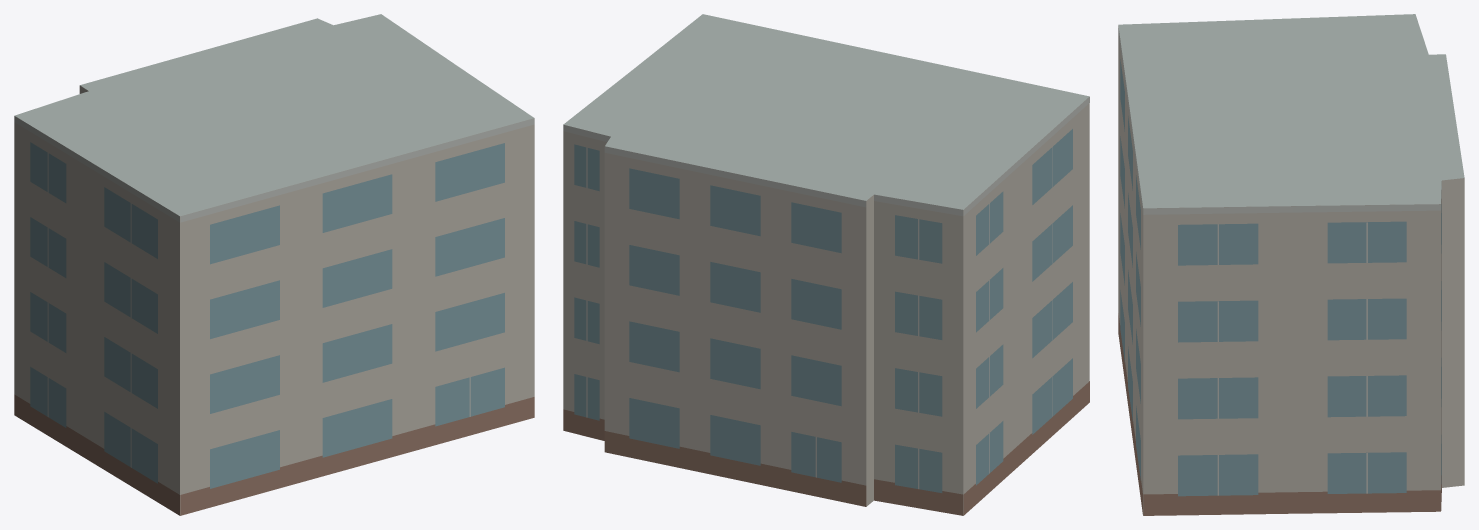
File: survey-upis-32965989.glb
3 views of the same model, side by side, from view 1: azimuth 30°, elevation 25°; view 2: azimuth 150°, elevation 25°; view 3: azimuth 270°, elevation 25° (orthographic). The views are drawn at different scales.
Visible parts, largest first — view 1: survey-upis-32965989.tmp; view 2: survey-upis-32965989.tmp; view 3: survey-upis-32965989.tmp.
Part boxes in pixels (box(x1,y1,x2,y2)): survey-upis-32965989.tmp: box(14, 14, 534, 515); survey-upis-32965989.tmp: box(563, 14, 1089, 515); survey-upis-32965989.tmp: box(1118, 14, 1464, 515).
Size of the model in its own units: 15.59 by 11.5 by 11.75.
